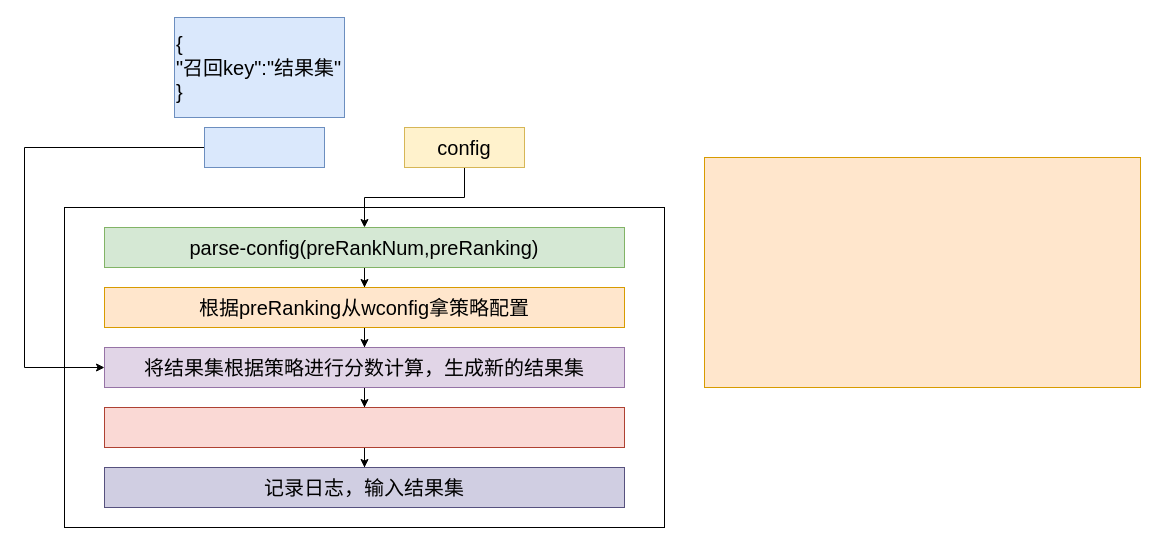
This 1158x545 diagram has some shape labels left out. Each missing label, with the box of its shape:
{ "系统优先级"：{ "召回key":"系统优先级分数" }， "权重"：{ "召回key":"权重分数" } }: (704, 156, 1140, 388)
倒叙排列，根据config的preRankNum进行截断: (104, 406, 624, 448)
召回结果集: (204, 126, 324, 168)
